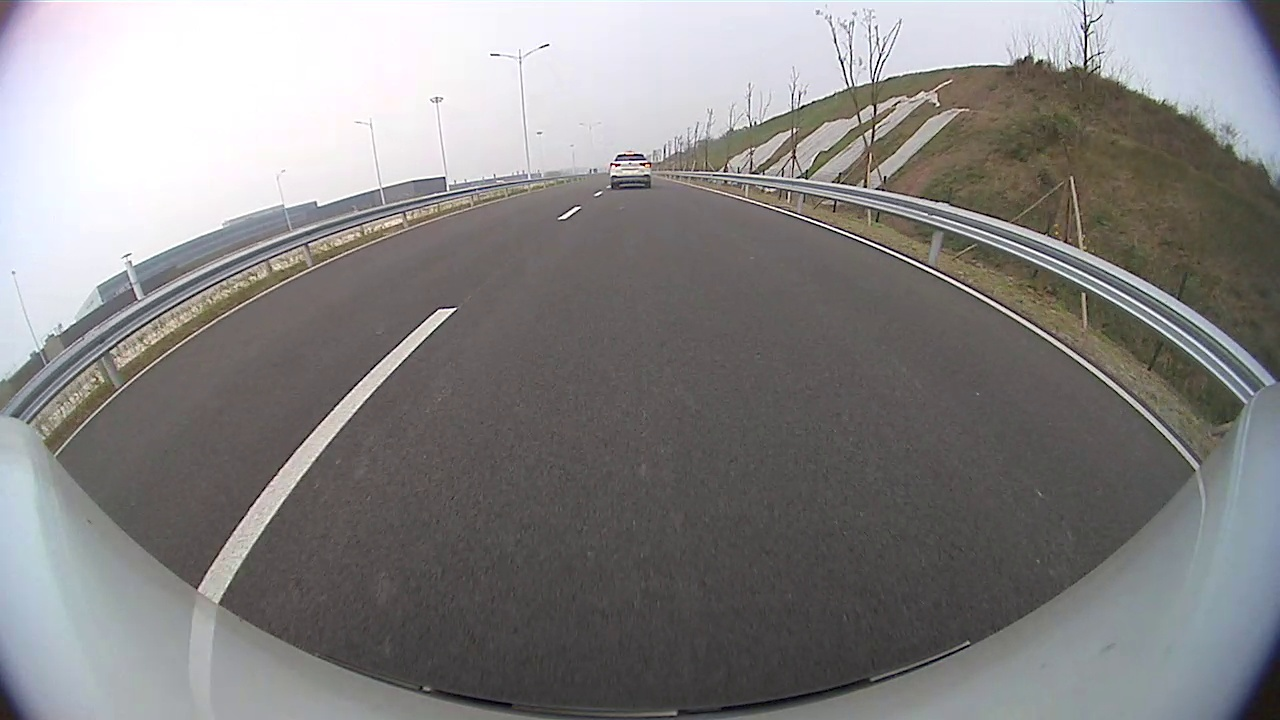car: (608, 149, 658, 192)
